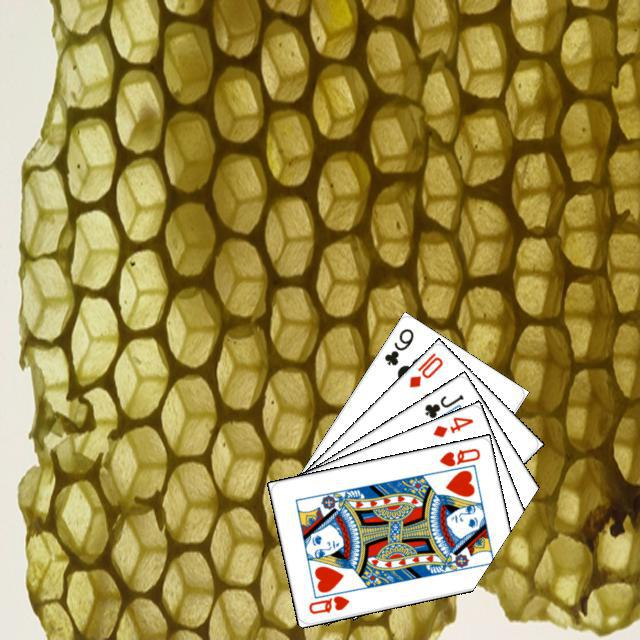10d: (404, 347, 445, 389)
4d: (428, 412, 475, 439)
9c: (379, 323, 416, 367)
Jc: (420, 389, 465, 420)
Qh: (304, 584, 354, 616), (434, 443, 482, 468)
